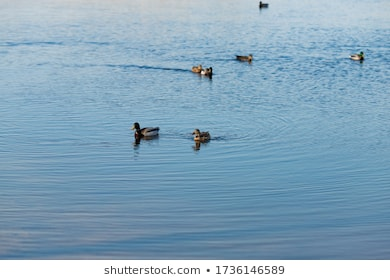duck: (125, 115, 167, 144), (185, 127, 219, 152)
